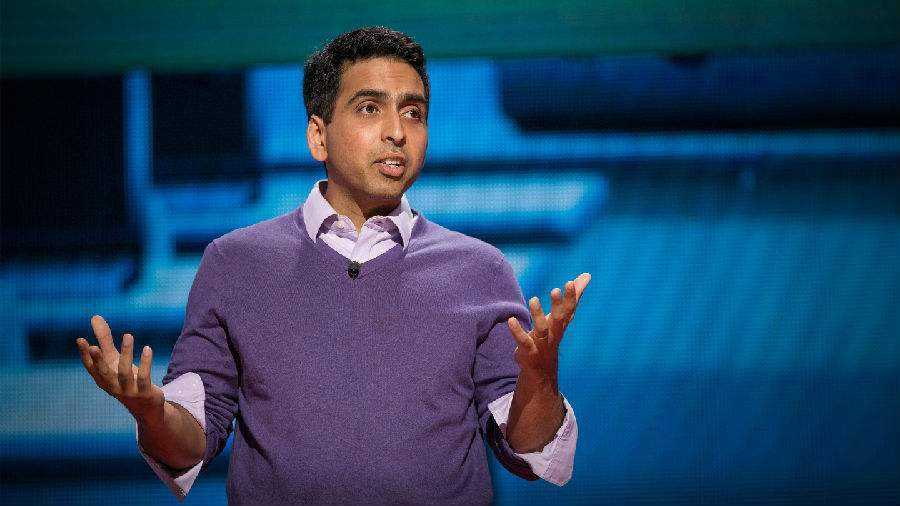no-phone: (71, 310, 169, 413), (504, 266, 597, 367)
